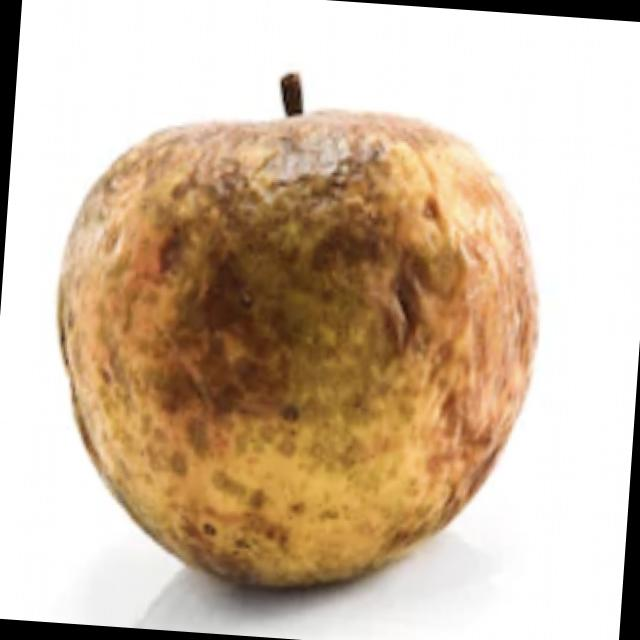rotten_apple: (35, 56, 551, 604)
